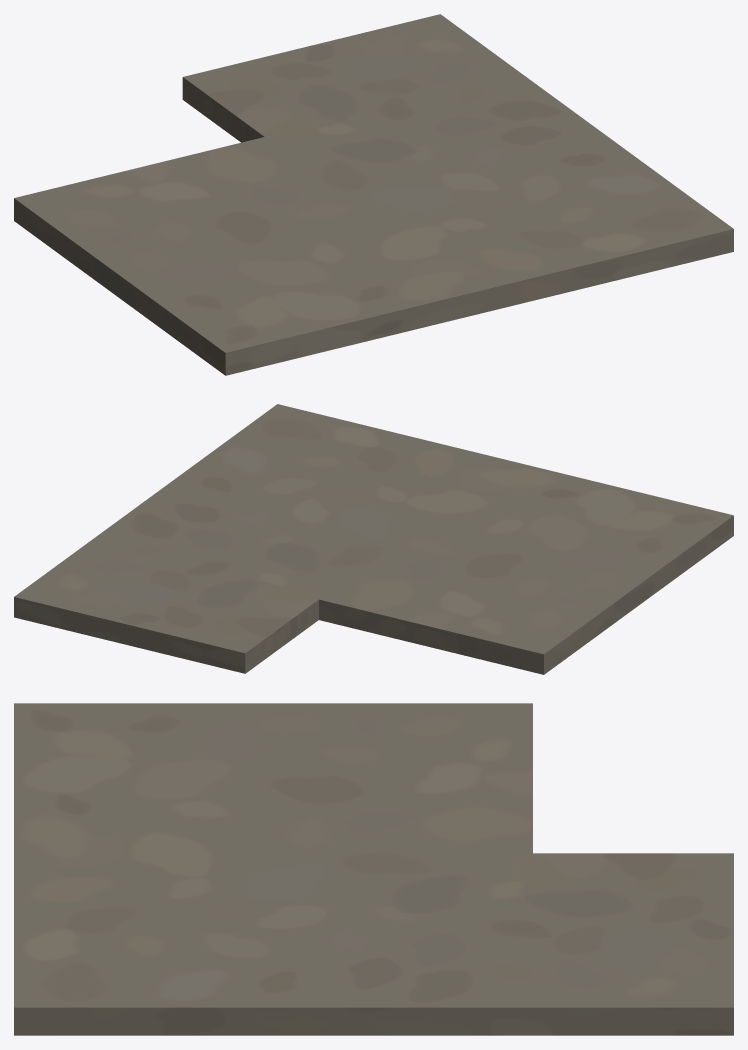
Rendered from Floor_A2.fbx.
3 renders of one model, top to bottom at view 1: azimuth 30°, elevation 25°; view 2: azimuth 150°, elevation 25°; view 3: azimuth 270°, elevation 25°, orthographic. The views are drawn at different scales.
Visible parts, largest first — view 1: Floor_A2; view 2: Floor_A2; view 3: Floor_A2.
Boxes of the visible parts, x1,y1,x2,y2 form: Floor_A2: [14, 14, 733, 375]; Floor_A2: [14, 404, 733, 674]; Floor_A2: [14, 703, 733, 1035].
Bounding box in the file's own units: 600 × 25.8 × 600.
1 material, 1 textured.
